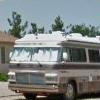Bus: (8, 29, 100, 100)
